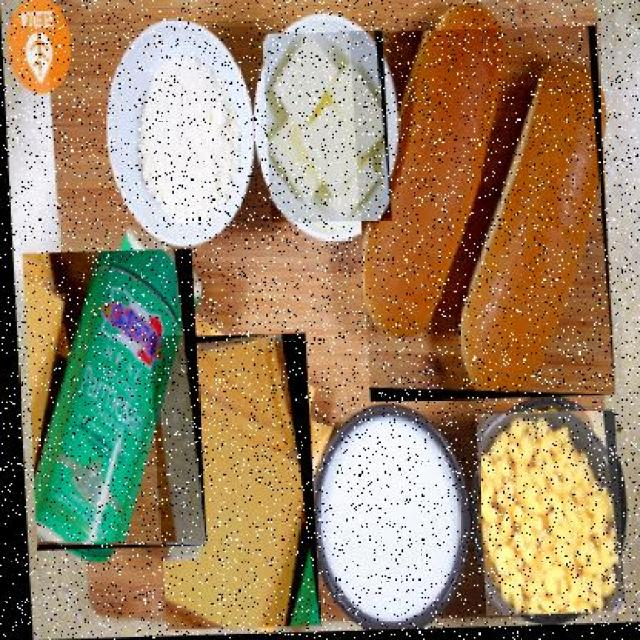bread: (349, 28, 611, 404)
butter: (260, 31, 389, 224)
cheese: (146, 334, 314, 631)
parmasan_cheese: (18, 248, 202, 550)
pasta: (469, 412, 618, 619)
